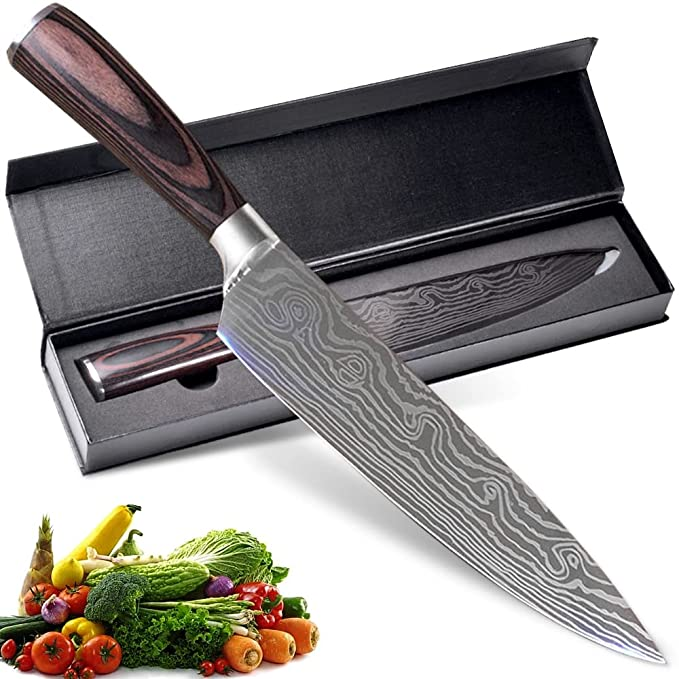knife: (202, 204, 675, 663)
